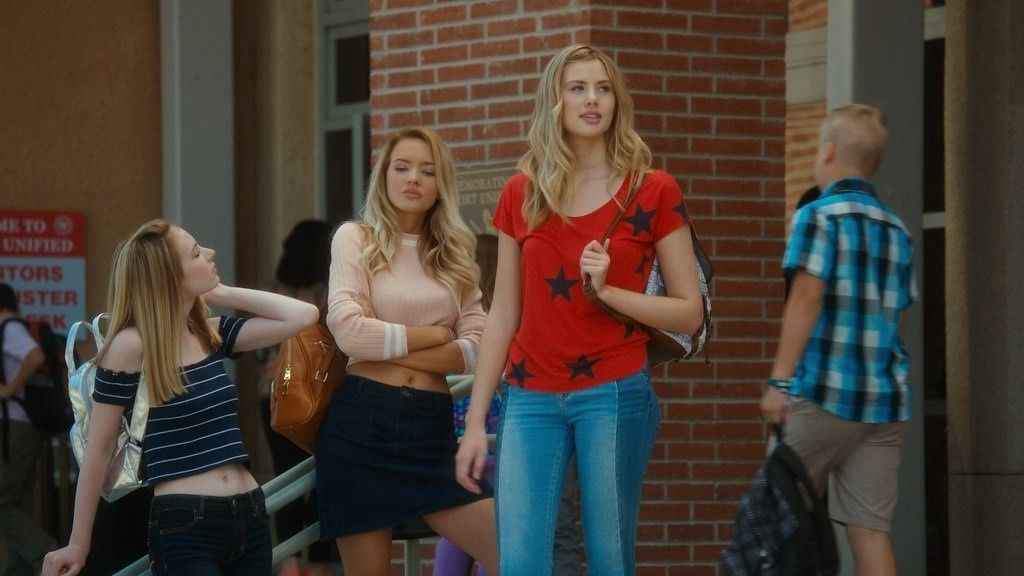face_no_mask: (129, 221, 220, 304), (543, 45, 623, 137), (374, 129, 453, 217)
